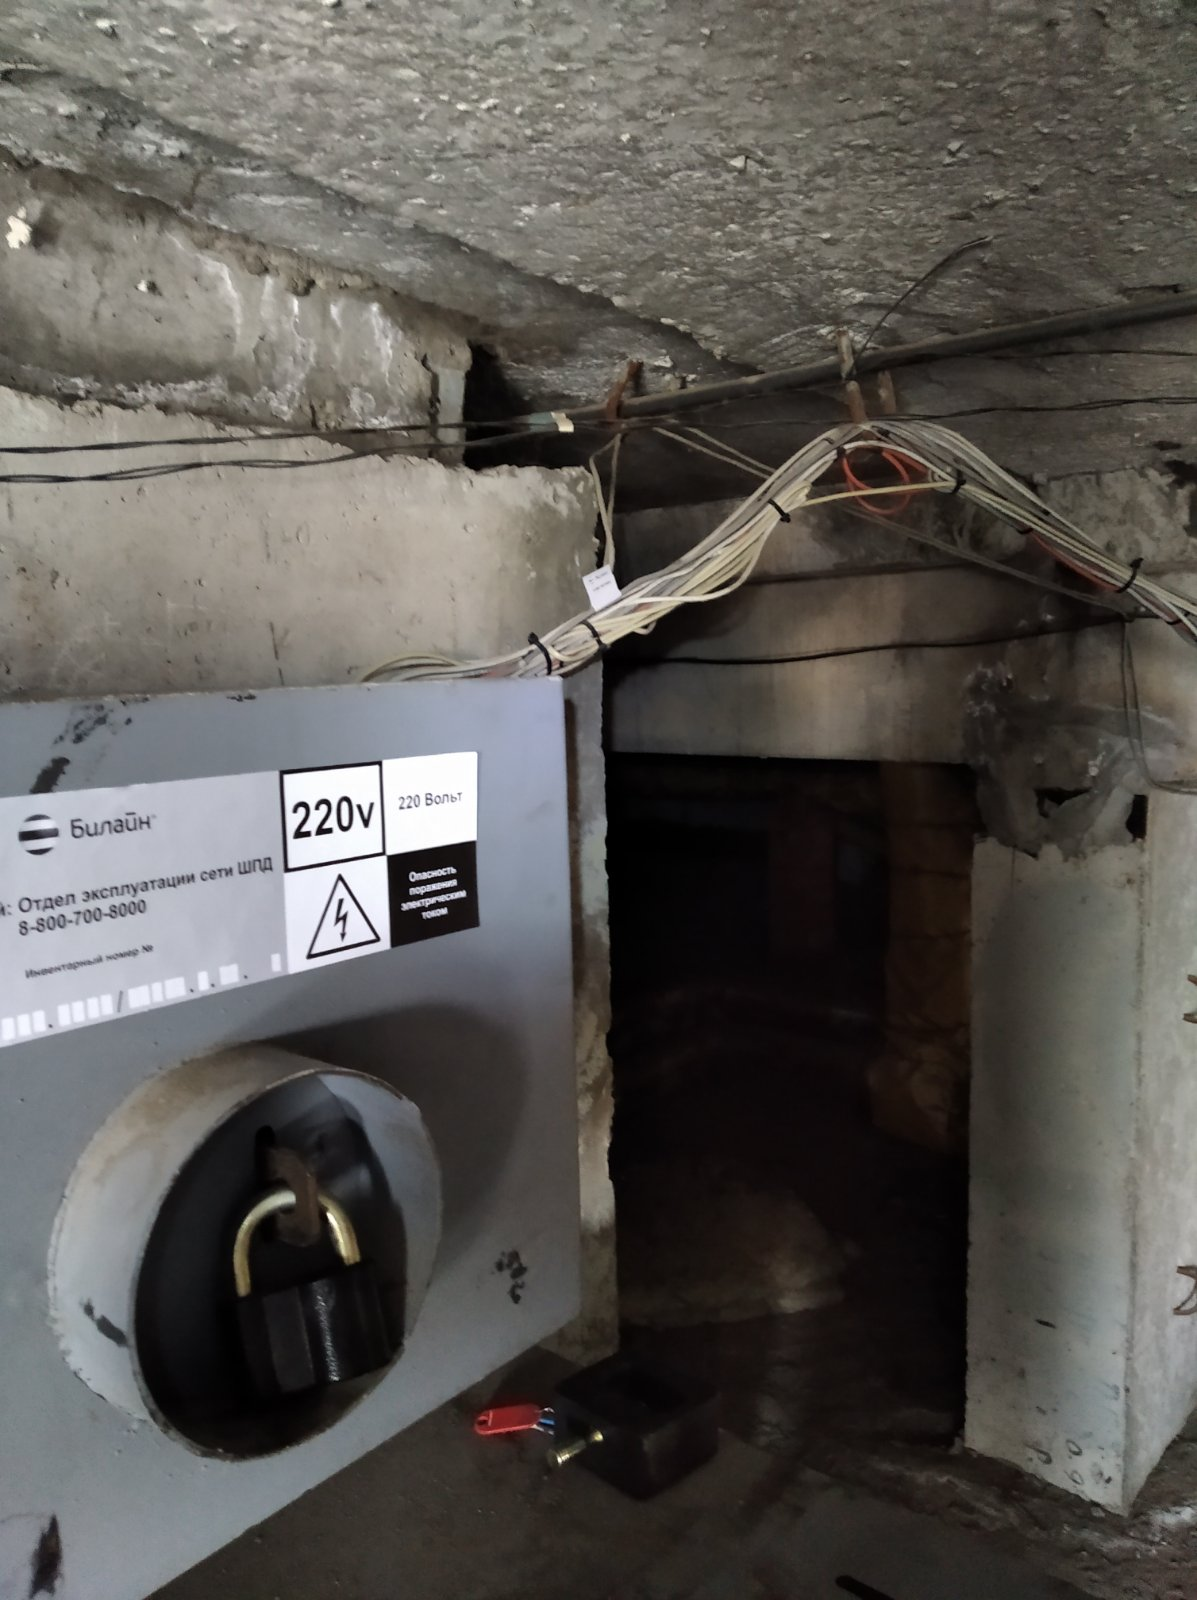shta-9: (9, 654, 596, 1584)
